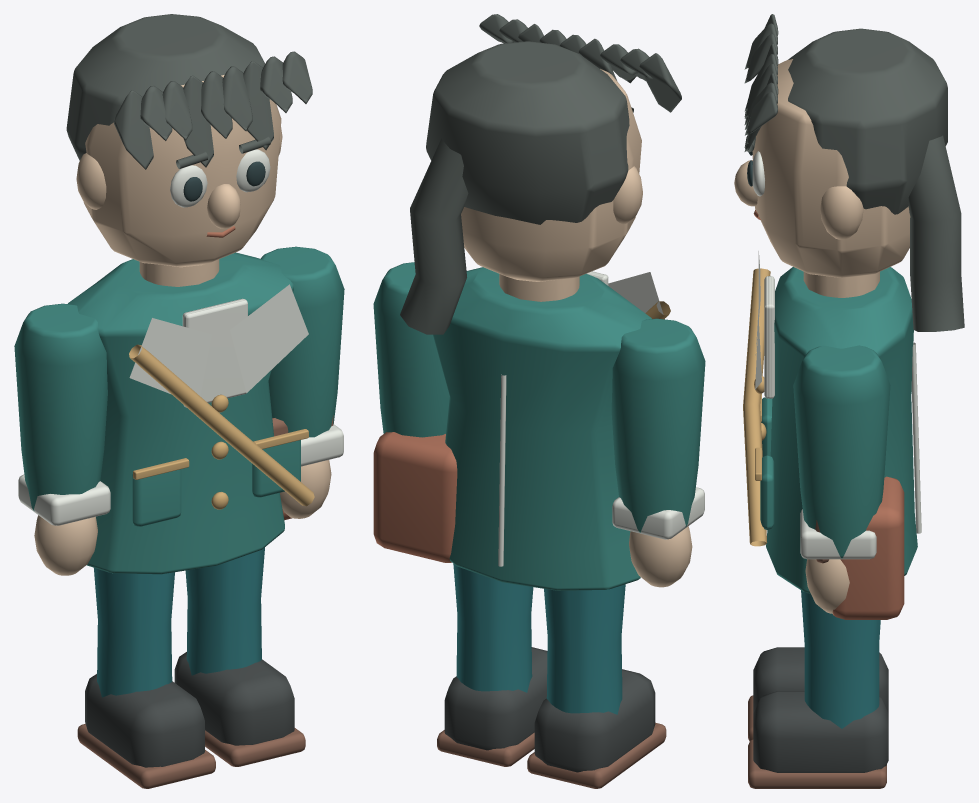
Rendered from bai.glb.
The picture shows the model from 3 angles, left to right: view 1: azimuth 30°, elevation 25°; view 2: azimuth 150°, elevation 25°; view 3: azimuth 270°, elevation 25°; orthographic projection.
Parts seen in each view (by area): view 1: Coat.002_batch, Hair.002_batch, Skin.002_batch, Coat.002_batch.001, Shirt.002_batch, Coat.002_batch.002, Enamel teal.002_batch, Enamel teal.002_batch.001, Boots.002_batch, Boots.002_batch.001, Accessory.002_batch, Skin.002_batch.001 (+6 smaller); view 2: Coat.002_batch, Hair.002_batch, Coat.002_batch.001, Skin.002_batch, Oxide leather.002_batch, Enamel teal.002_batch, Coat.002_batch.002, Enamel teal.002_batch.001, Boots.002_batch, Boots.002_batch.001, Skin.002_batch.001, Shirt.002_batch (+3 smaller); view 3: Hair.002_batch, Coat.002_batch, Skin.002_batch, Coat.002_batch.002, Boots.002_batch.001, Enamel teal.002_batch.001, Oxide leather.002_batch, Accessory.002_batch, Shirt.002_batch, Boots.002_batch, Walnut.002_batch.001, Shirt.002_batch.002 (+1 smaller).
Boxes of the visible parts, box(x1,y1,x2,y2) form: Coat.002_batch: box(68, 252, 300, 574); Hair.002_batch: box(66, 14, 312, 169); Skin.002_batch: box(76, 75, 282, 286); Coat.002_batch.001: box(14, 303, 107, 510); Shirt.002_batch: box(129, 149, 308, 407); Coat.002_batch.002: box(261, 246, 344, 437); Enamel teal.002_batch: box(94, 568, 174, 697); Enamel teal.002_batch.001: box(185, 547, 264, 675); Boots.002_batch: box(85, 674, 204, 767); Boots.002_batch.001: box(174, 652, 294, 745); Accessory.002_batch: box(129, 344, 314, 509); Skin.002_batch.001: box(34, 515, 97, 575); Coat.002_batch: box(433, 267, 651, 590); Hair.002_batch: box(400, 14, 681, 334); Coat.002_batch.001: box(611, 318, 705, 532); Skin.002_batch: box(461, 69, 642, 301); Oxide leather.002_batch: box(373, 432, 457, 562); Enamel teal.002_batch: box(544, 584, 625, 714); Coat.002_batch.002: box(373, 262, 449, 437); Enamel teal.002_batch.001: box(453, 564, 533, 692); Boots.002_batch: box(534, 669, 655, 772); Boots.002_batch.001: box(444, 647, 547, 750); Skin.002_batch.001: box(629, 526, 692, 587); Shirt.002_batch: box(498, 271, 664, 566); Hair.002_batch: box(744, 14, 964, 331); Coat.002_batch: box(760, 267, 917, 593); Skin.002_batch: box(734, 59, 910, 297); Coat.002_batch.002: box(793, 345, 890, 558); Boots.002_batch.001: box(753, 691, 888, 772); Enamel teal.002_batch.001: box(801, 590, 880, 728); Oxide leather.002_batch: box(753, 209, 904, 619); Accessory.002_batch: box(743, 268, 770, 546); Shirt.002_batch: box(752, 151, 921, 533); Boots.002_batch: box(753, 647, 888, 713); Walnut.002_batch.001: box(748, 739, 886, 788); Shirt.002_batch.002: box(800, 509, 876, 559).
Size of the model in its own units: 1.06 by 2.23 by 0.6637.
